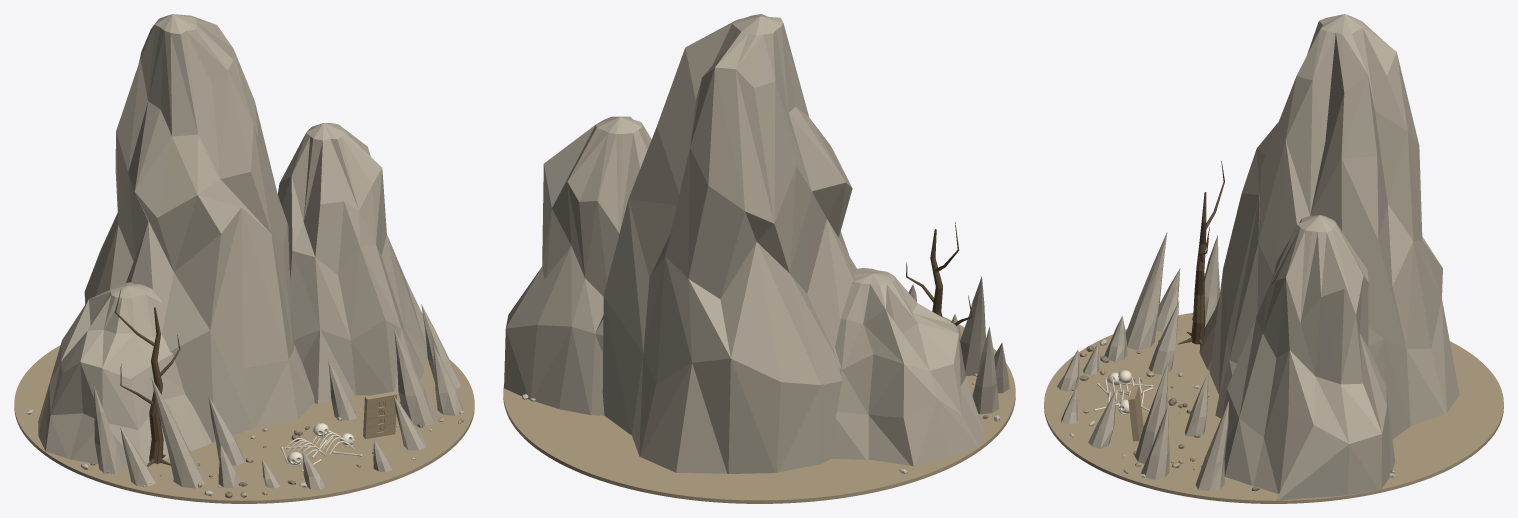
The model's file is xy_baihuling.glb.
3 views of the same model, side by side, from view 1: azimuth 30°, elevation 25°; view 2: azimuth 150°, elevation 25°; view 3: azimuth 270°, elevation 25° (orthographic). The views are drawn at different scales.
Visible parts, largest first — view 1: xy_baihuling; view 2: xy_baihuling; view 3: xy_baihuling.
Part boxes in pixels (<box>): xy_baihuling: <box>14,14,474,503</box>; xy_baihuling: <box>503,14,1015,503</box>; xy_baihuling: <box>1044,14,1503,503</box>.
Size of the model in its own units: 16 by 14.4 by 16.
